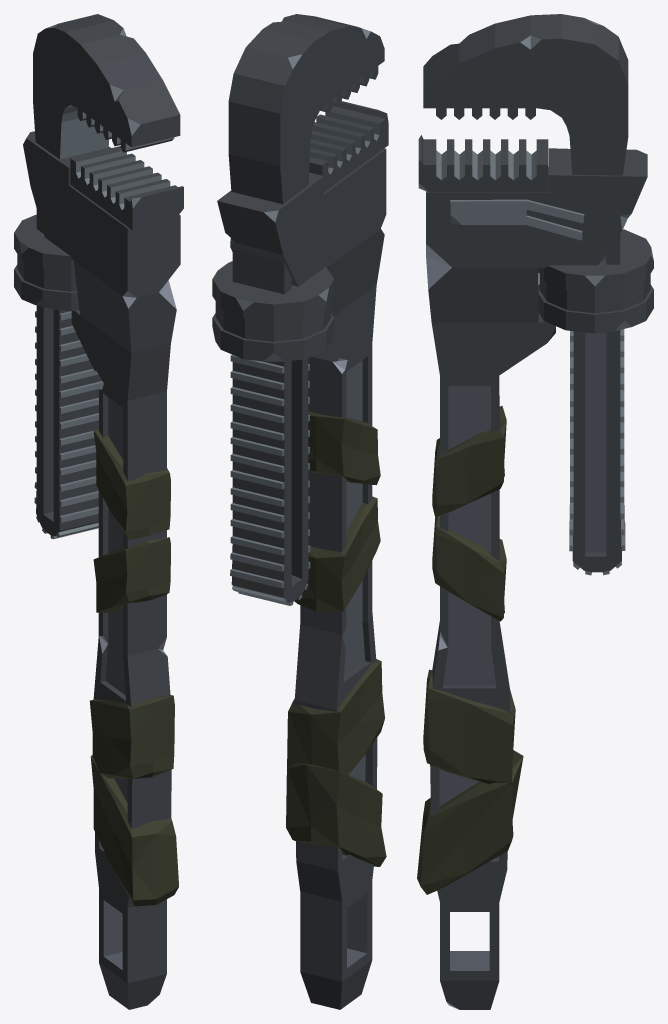
Rendered from wrench.glb.
3 views of the same model, side by side, from view 1: azimuth 30°, elevation 25°; view 2: azimuth 150°, elevation 25°; view 3: azimuth 270°, elevation 25° (orthographic). The views are drawn at different scales.
Parts seen in each view (by area): view 1: SM_Wrench; view 2: SM_Wrench; view 3: SM_Wrench.
Boxes of the visible parts, left/top/right/bottom form: SM_Wrench: left=14, top=14, right=183, bottom=1009; SM_Wrench: left=212, top=14, right=388, bottom=1009; SM_Wrench: left=417, top=14, right=653, bottom=1009.
Bounding box in the file's own units: 0.0587 × 0.5283 × 0.1161.
Materials: 1 (1 with a texture image).
